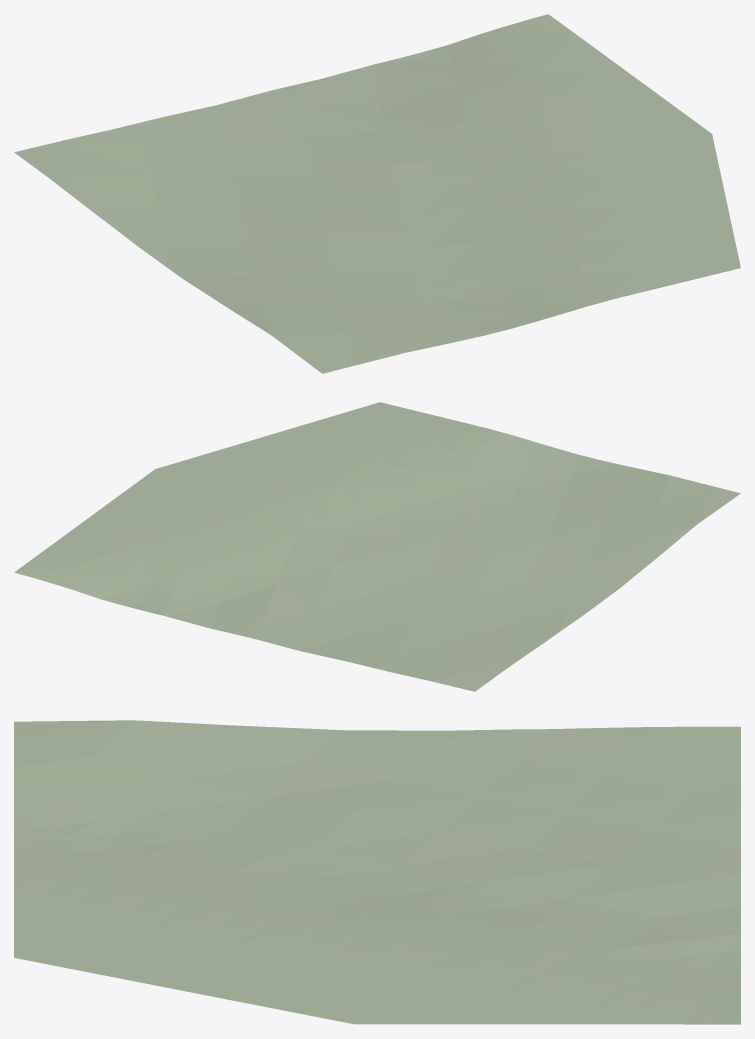
The model's file is SM_MPRR_Terrain_3_-1.fbx.
The picture shows the model from 3 angles, top to bottom: view 1: azimuth 30°, elevation 25°; view 2: azimuth 150°, elevation 25°; view 3: azimuth 270°, elevation 25°; orthographic projection. The views are drawn at different scales.
Parts seen in each view (by area): view 1: SM_MPRR_Terrain_3_-1; view 2: SM_MPRR_Terrain_3_-1; view 3: SM_MPRR_Terrain_3_-1.
Part boxes in pixels (x1,y1,x2,y2): SM_MPRR_Terrain_3_-1: (14,14,740,373); SM_MPRR_Terrain_3_-1: (14,402,740,691); SM_MPRR_Terrain_3_-1: (14,720,740,1024).
Size of the model in its own units: 15000 by 15000 by 308.
